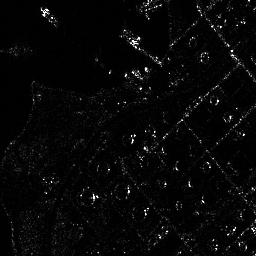ship: (38, 6, 59, 27)
